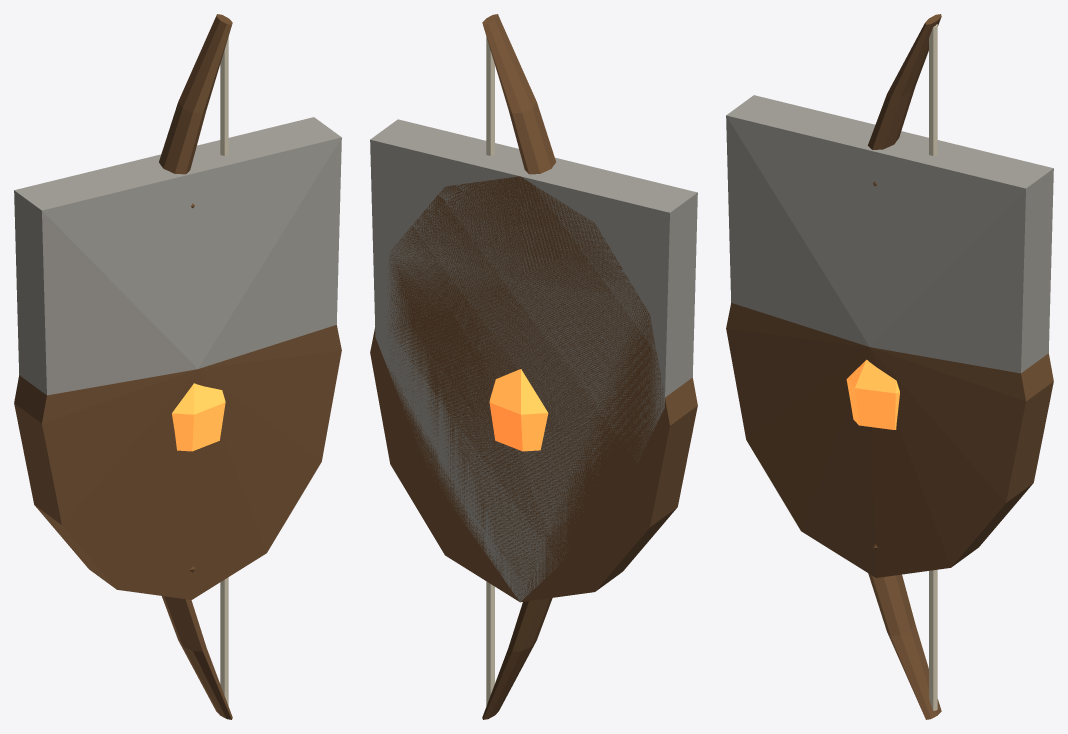
Rendered from offhands.glb.
3 renders of one model, left to right at view 1: azimuth 30°, elevation 25°; view 2: azimuth 150°, elevation 25°; view 3: azimuth 330°, elevation 25°, orthographic.
Visible parts, largest first — view 1: heater_face, shield_face, bow_limb, torch_ember, bow_string; view 2: shield_face, heater_face, bow_limb, torch_ember, bow_string; view 3: heater_face, shield_face, bow_limb, torch_ember, bow_string.
Part boxes in pixels (x1=…): heater_face: x1=14, y1=117, x2=341, y2=395; shield_face: x1=14, y1=325, x2=341, y2=599; bow_limb: x1=159, y1=14, x2=232, y2=719; torch_ember: x1=172, y1=383, x2=225, y2=451; bow_string: x1=220, y1=37, x2=228, y2=705; shield_face: x1=370, y1=176, x2=697, y2=602; heater_face: x1=370, y1=119, x2=697, y2=601; bow_limb: x1=482, y1=14, x2=555, y2=719; torch_ember: x1=489, y1=369, x2=548, y2=451; bow_string: x1=486, y1=37, x2=494, y2=705; heater_face: x1=726, y1=95, x2=1053, y2=373; shield_face: x1=726, y1=303, x2=1053, y2=577; bow_limb: x1=867, y1=14, x2=941, y2=719; torch_ember: x1=846, y1=359, x2=899, y2=429; bow_string: x1=929, y1=24, x2=937, y2=710.
Size of the model in its own units: 0.28 by 0.62 by 0.078.
